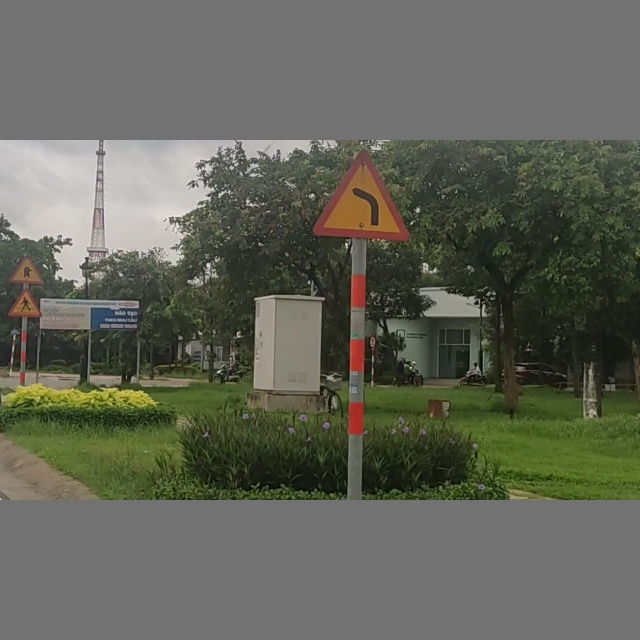W.201a: (312, 151, 413, 243)
W.207: (9, 255, 47, 286)
W.224: (6, 287, 45, 319)
